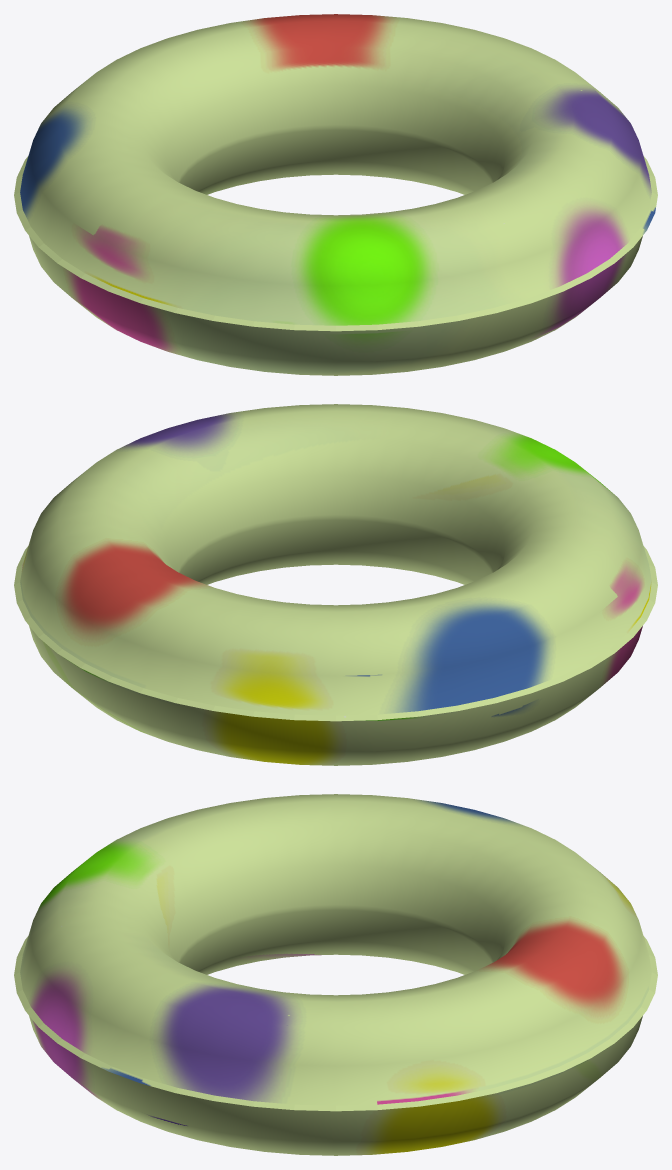
The model's file is Floats.fbx.
3 views of the same model, one above another, from view 1: azimuth 30°, elevation 25°; view 2: azimuth 150°, elevation 25°; view 3: azimuth 270°, elevation 25° (orthographic).
Visible parts, largest first — view 1: Torus; view 2: Torus; view 3: Torus.
Part boxes in pixels (left/top/right/bottom): Torus: left=14, top=14, right=657, bottom=375; Torus: left=14, top=404, right=657, bottom=765; Torus: left=14, top=794, right=657, bottom=1155.
Bounding box in the file's own units: 314 × 78.88 × 314.
1 material, 1 textured.
